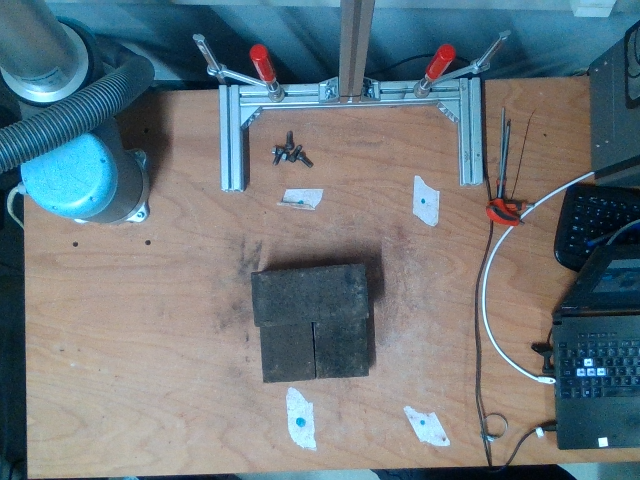brick: (251, 265, 365, 324)
